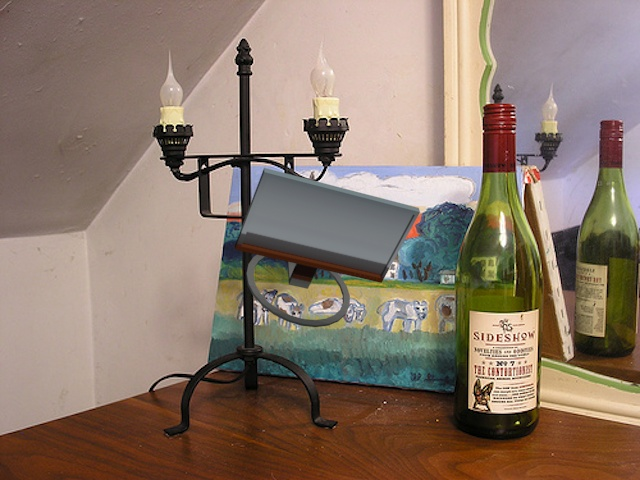monitor: (224, 161, 432, 336)
